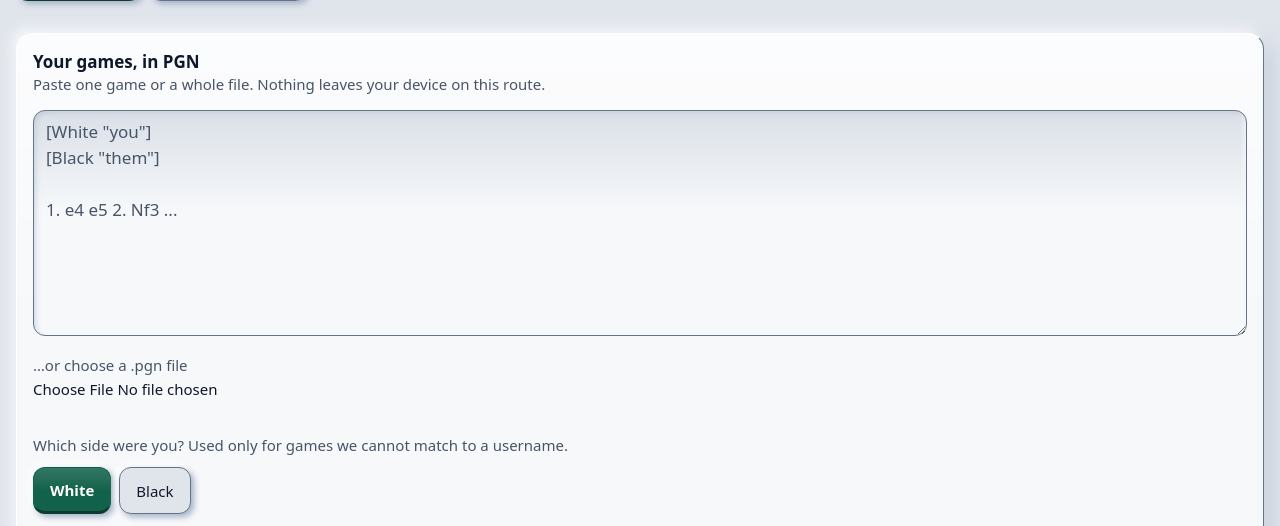
Scenario: ImportScreen, the PGN paste path › pasting a game imports it, analyses it, and says so
Click the text box labelled "Your games, in PGN". click: (640, 223)
box: [33,110,1247,336]
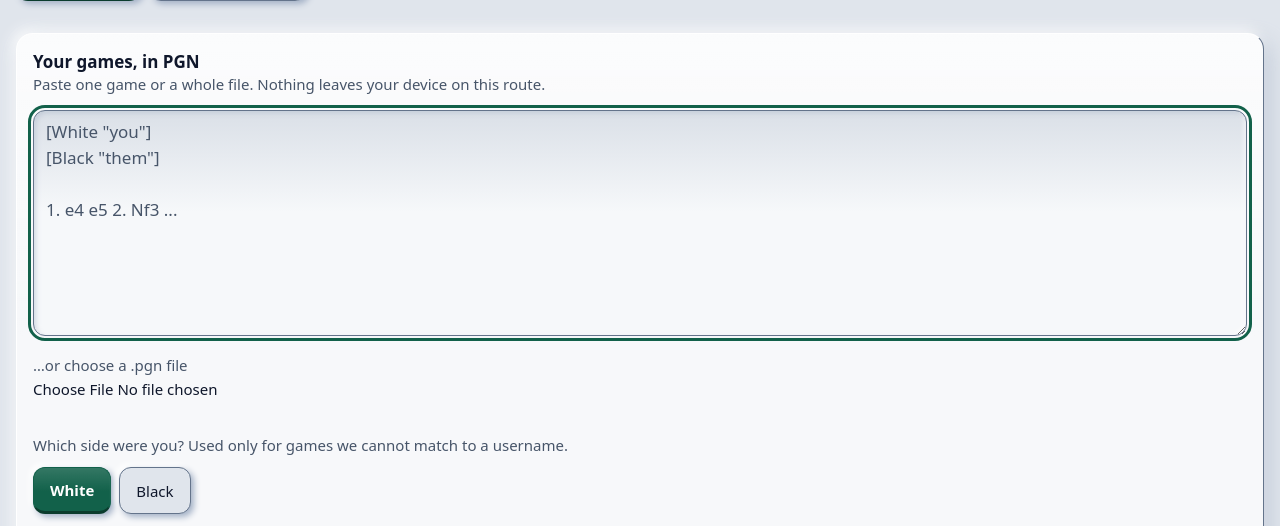
Type keys "[Event \"Live Chess\"] [White \"learner_one\"] [Black \"Rosa\"] [Result \"1-0\"] [UTCDate \"2026.09.20\"] [UTCTime \"14:00:00\"] [TimeControl \"600\"] 1. e4 e5 2. Nf3 Nc6 3. Bb5 a6 1-0"
(page scrolled)
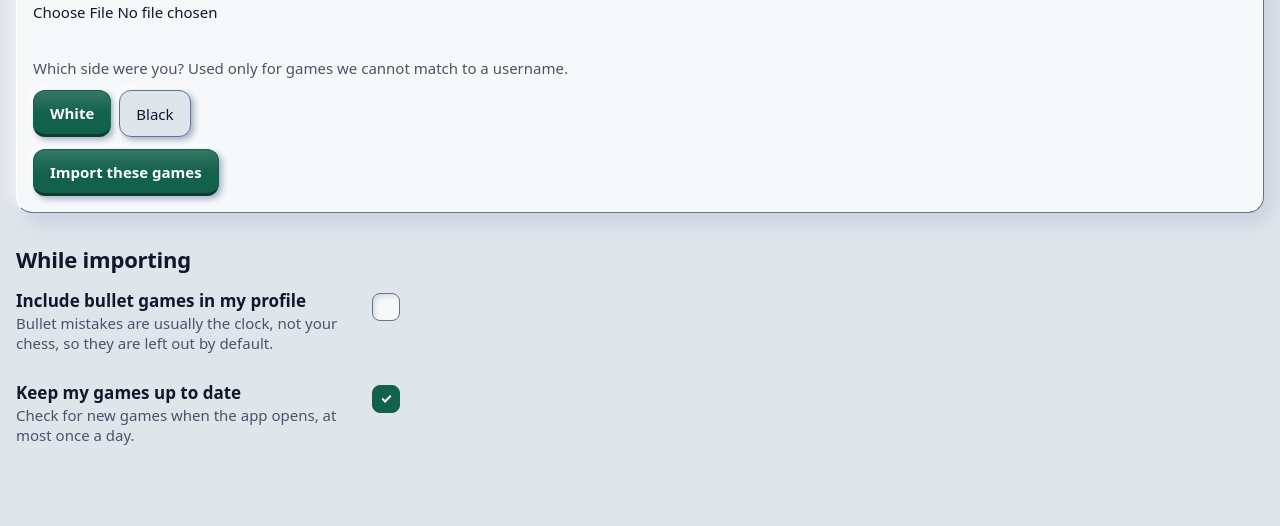
Click the button "Import these games". click: (126, 172)
box: [33,149,219,196]
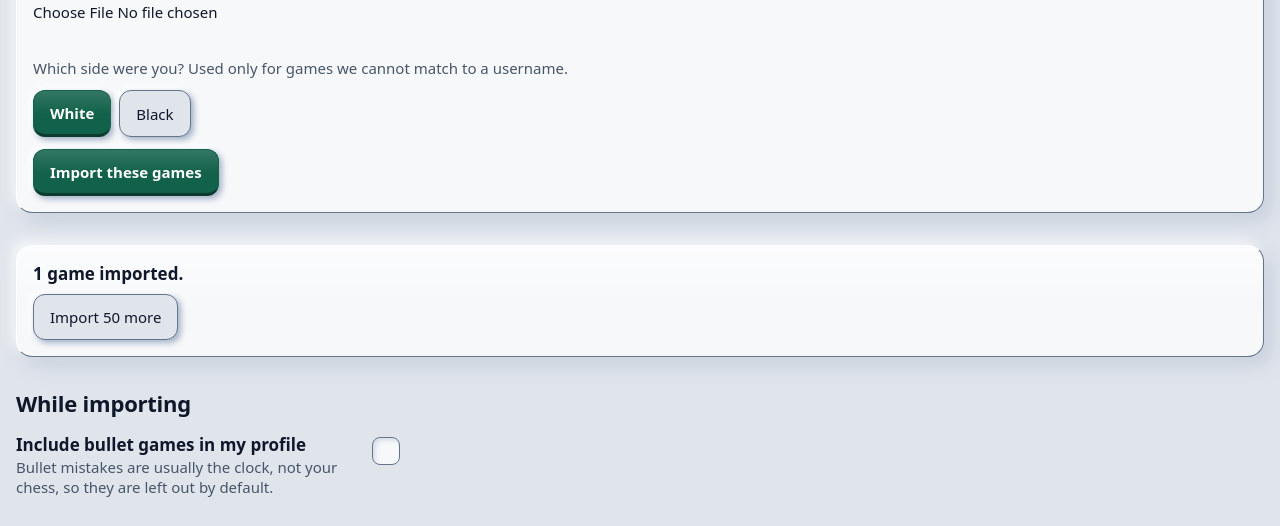
Expected: the text "1 game imported." is shown, [33,262,183,285]
Expected: the button "Import 50 more" is shown, [33,294,178,340]
